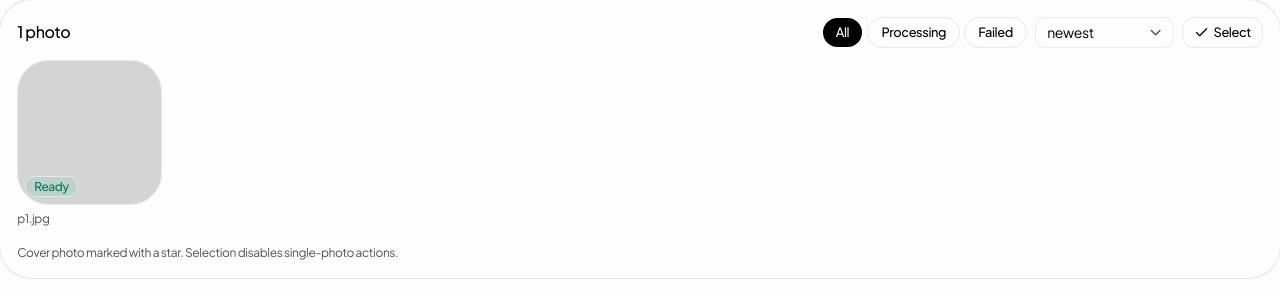
Scenario: PhotoGrid › shows an empty state when a filter matches nothing
Expected: the text "p1.jpg" is shown, x1=17 y1=211 x2=50 y2=226
Click the button "Failed".
click(996, 32)  # box x1=964 y1=17 x2=1027 y2=48
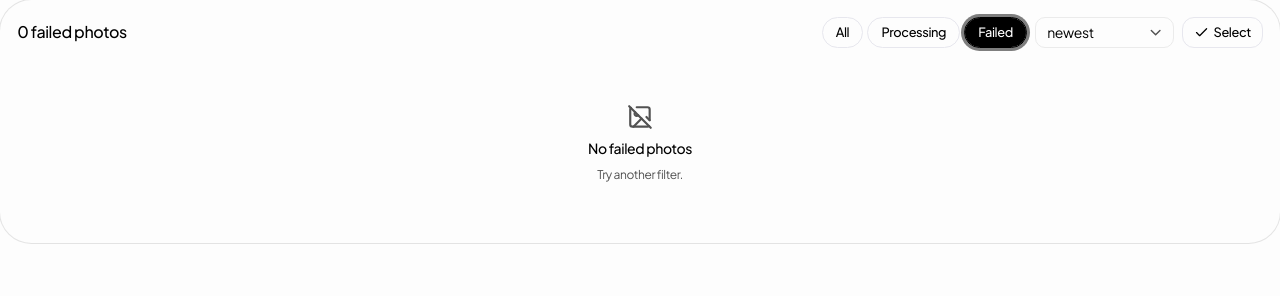
Result: the text "No failed photos" is shown at x1=588 y1=138 x2=692 y2=158
